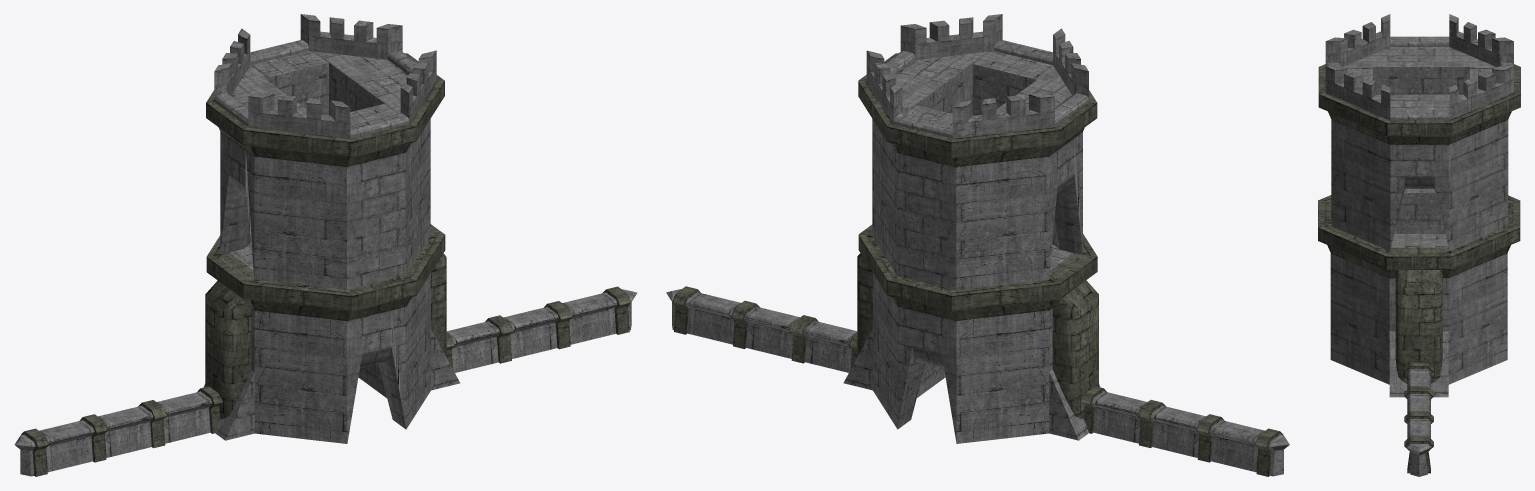
The model's file is Dragonfly_Vestige_Underwater_Structure.fbx.
The picture shows the model from 3 angles, left to right: view 1: azimuth 30°, elevation 25°; view 2: azimuth 150°, elevation 25°; view 3: azimuth 270°, elevation 25°; orthographic projection. The views are drawn at different scales.
Visible parts, largest first — view 1: DF_Vestige_Central_Tower_Underwater; view 2: DF_Vestige_Central_Tower_Underwater; view 3: DF_Vestige_Central_Tower_Underwater.
Part boxes in pixels (x1,y1,x2,y2): DF_Vestige_Central_Tower_Underwater: [14, 14, 637, 476]; DF_Vestige_Central_Tower_Underwater: [666, 14, 1289, 476]; DF_Vestige_Central_Tower_Underwater: [1318, 14, 1520, 476].
Size of the model in its own units: 42.39 by 22 by 13.76.
